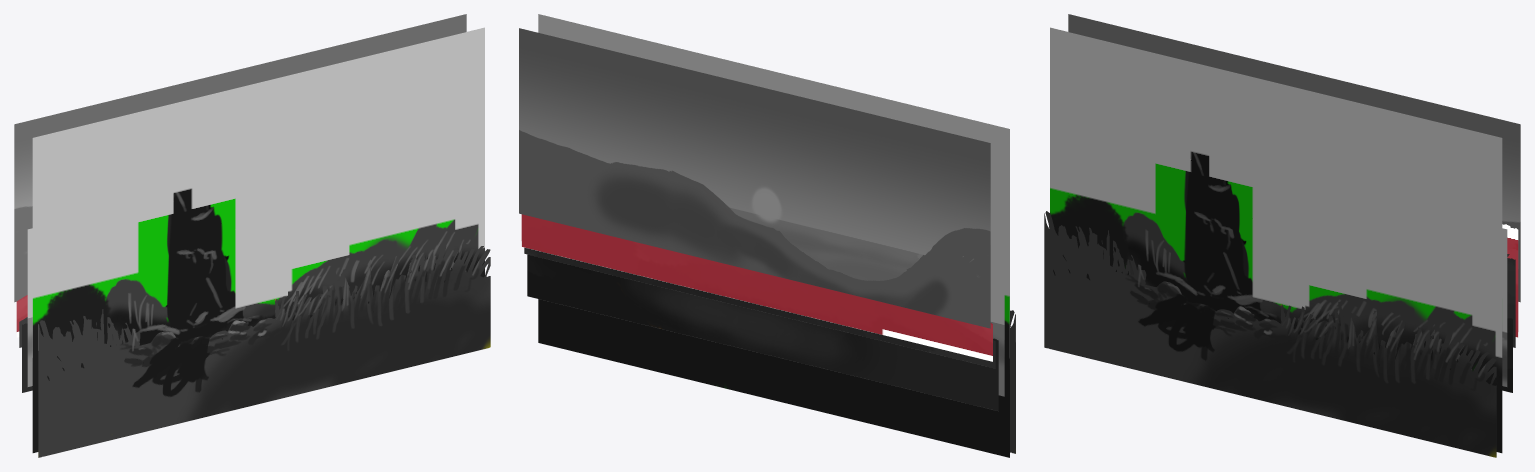
The model's file is page23_01_A.fbx.
3 views of the same model, side by side, from view 1: azimuth 30°, elevation 25°; view 2: azimuth 150°, elevation 25°; view 3: azimuth 330°, elevation 25° (orthographic). The views are drawn at different scales.
Visible parts, largest first — view 1: fgmid, fgnear, background, fgfar; view 2: background, fgmid, bgnear, bgfar, bgmid, fgfar, fgnear; view 3: fgmid, fgnear, background, fgfar, bgfar, bgmid.
Part boxes in pixels (x1,y1,x2,y2): fgmid: (32,27,484,453); fgnear: (38,235,490,457); background: (14,14,466,302); fgfar: (27,228,32,386); background: (519,28,990,328); fgmid: (538,14,1009,457); bgnear: (527,254,998,411); bgfar: (521,214,992,361); bgmid: (524,247,995,368); fgfar: (990,229,1004,396); fgnear: (1010,310,1015,453); fgmid: (1050,27,1502,453); fgnear: (1044,211,1496,457); background: (1068,14,1520,302); fgfar: (1502,228,1507,386); bgfar: (1502,224,1518,337); bgmid: (1507,254,1515,347).
Bounding box in the file's own units: 173 × 116 × 16.07.
Materials: 7 (7 with a texture image).
